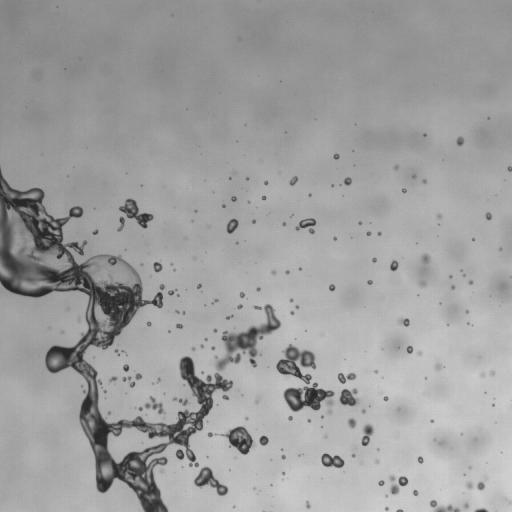droplet: (275, 344, 334, 413), (194, 466, 228, 495), (221, 426, 256, 454), (389, 475, 408, 494), (339, 388, 359, 406), (321, 453, 344, 468), (295, 218, 316, 233), (361, 423, 374, 445), (226, 219, 238, 233), (153, 261, 162, 272), (421, 253, 430, 263), (347, 418, 356, 428), (259, 435, 268, 445), (398, 318, 409, 326), (289, 176, 298, 185), (390, 260, 398, 270), (456, 136, 463, 146), (466, 481, 474, 489), (108, 376, 117, 383), (344, 177, 351, 185), (435, 363, 443, 370), (406, 346, 413, 353), (485, 212, 491, 220), (168, 289, 176, 295), (329, 284, 335, 291), (123, 364, 129, 371), (135, 373, 142, 379), (417, 456, 423, 463), (489, 370, 495, 376), (333, 154, 339, 159), (176, 323, 182, 328), (378, 480, 384, 485), (231, 196, 236, 201), (420, 281, 425, 286), (240, 292, 245, 297), (237, 304, 242, 309), (480, 372, 485, 377), (413, 490, 418, 495), (222, 395, 228, 399), (306, 502, 310, 508), (507, 166, 511, 171), (402, 188, 406, 193), (93, 230, 98, 234), (366, 231, 371, 235), (271, 270, 276, 274), (367, 280, 372, 284), (468, 280, 473, 284), (212, 299, 217, 303), (146, 322, 151, 326), (115, 349, 119, 354), (417, 351, 422, 355), (464, 503, 468, 508), (394, 165, 398, 169), (422, 179, 426, 183), (437, 214, 441, 218), (372, 258, 376, 262), (285, 270, 289, 274), (197, 284, 201, 288), (256, 287, 260, 291), (289, 298, 293, 302), (191, 346, 195, 350), (156, 378, 160, 382), (384, 396, 388, 400), (255, 398, 259, 402), (361, 409, 365, 413), (288, 416, 292, 420), (281, 455, 285, 459), (262, 195, 265, 200), (77, 317, 80, 322), (282, 222, 285, 226), (377, 232, 381, 235), (451, 285, 454, 289), (295, 305, 299, 308), (213, 329, 217, 332), (200, 344, 203, 348), (351, 454, 355, 457), (385, 507, 388, 511), (412, 175, 415, 178), (264, 181, 267, 184), (252, 220, 255, 223), (358, 221, 361, 224), (333, 237, 336, 240), (182, 311, 185, 314), (290, 311, 293, 314), (211, 346, 214, 349), (374, 370, 377, 373), (107, 411, 110, 414), (307, 419, 310, 422), (375, 460, 378, 463), (508, 500, 511, 503), (246, 177, 248, 180), (308, 194, 311, 196), (299, 267, 301, 270), (176, 310, 178, 313), (204, 338, 207, 340), (431, 419, 433, 422), (161, 469, 163, 472), (222, 205, 224, 207), (472, 238, 474, 240), (466, 310, 468, 312), (321, 416, 323, 418), (282, 472, 284, 474)
ligament: (0, 170, 281, 511), (119, 198, 153, 228), (137, 396, 165, 414), (429, 500, 460, 511), (337, 372, 356, 383), (476, 476, 487, 490), (172, 397, 189, 405), (122, 376, 134, 387), (117, 216, 124, 231), (474, 507, 488, 511), (208, 432, 217, 437), (226, 314, 232, 319), (396, 509, 403, 511)
